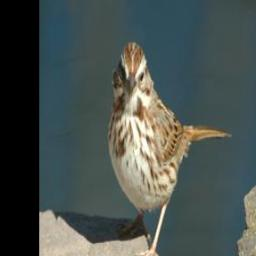Sparrow: (106, 40, 233, 256)
